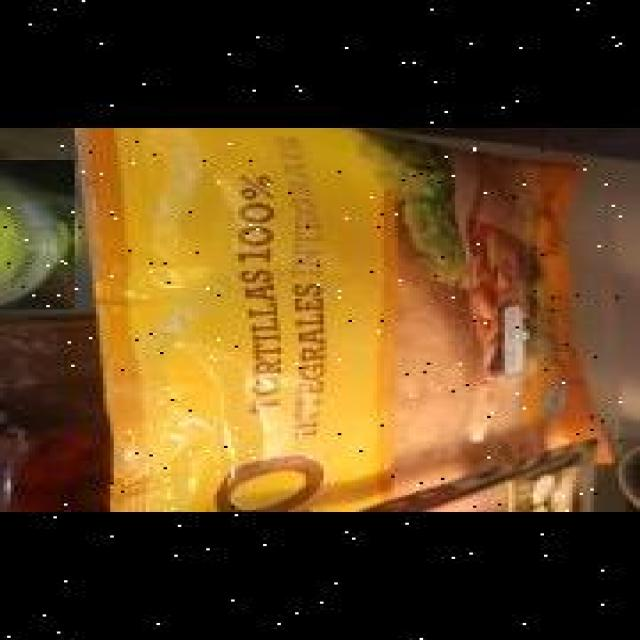guacamole: (0, 160, 107, 309)
tortillas: (73, 128, 610, 512)
